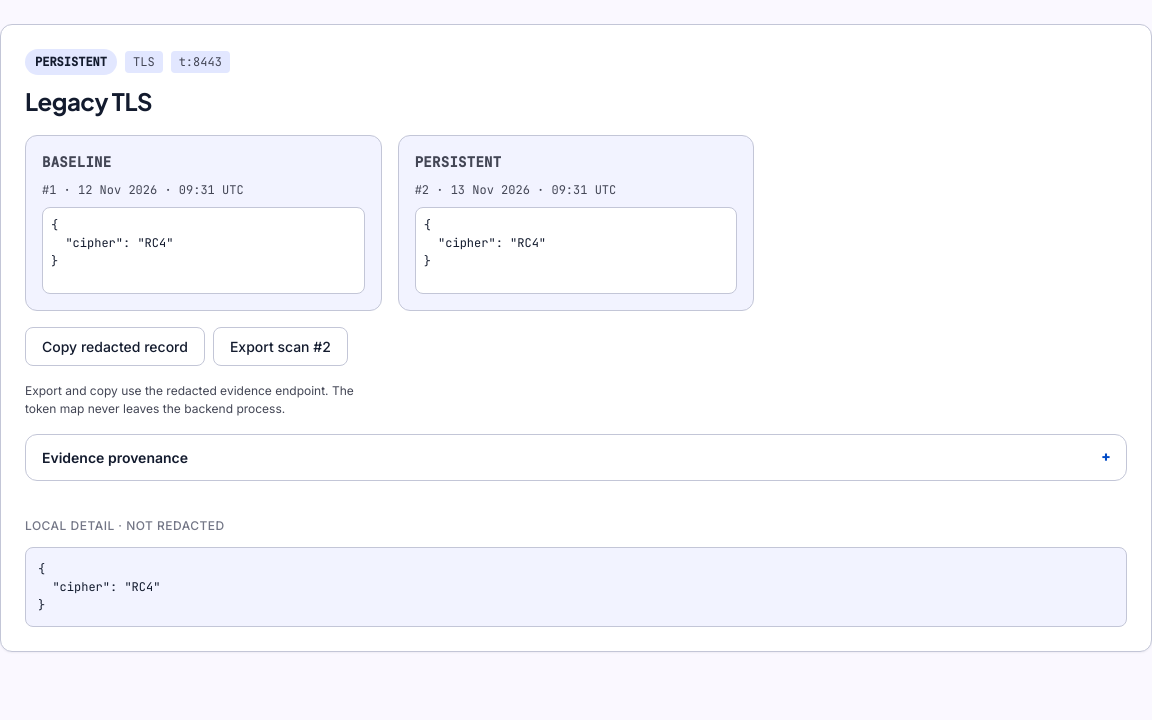
Test: EvidenceDetail › reports a missing redacted record instead of exporting silently
Click the button "Copy redacted record". click: click(115, 346)
box: [25,327,205,366]
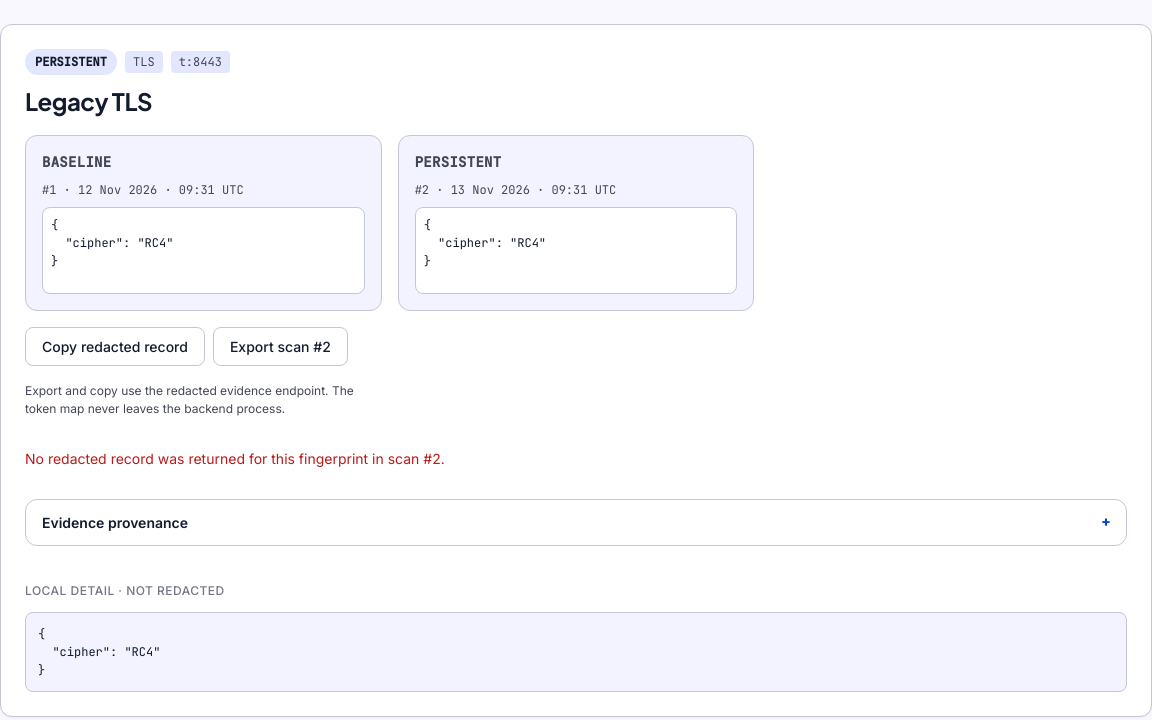
Check: the message shows "No redacted record", box [25,450,445,467]
